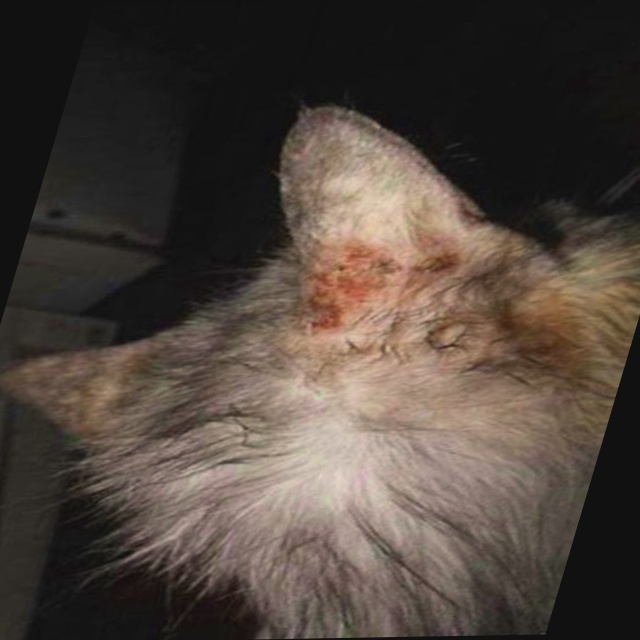ringworm: (294, 244, 466, 339)
